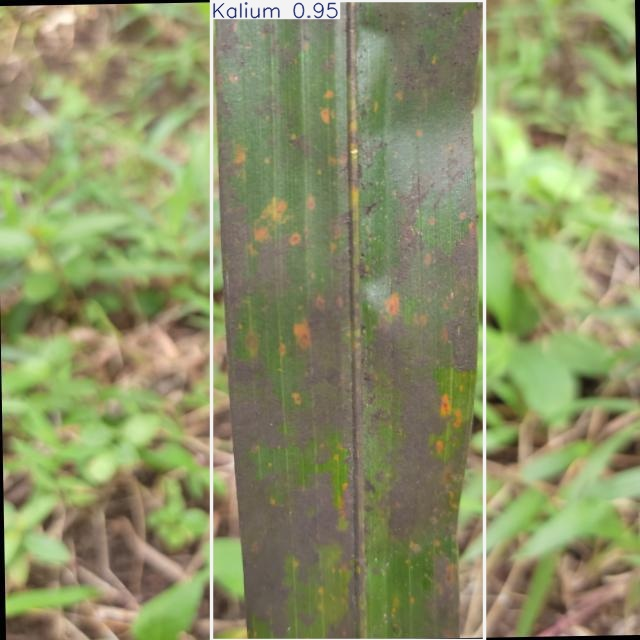Kalium: (212, 0, 484, 640)
